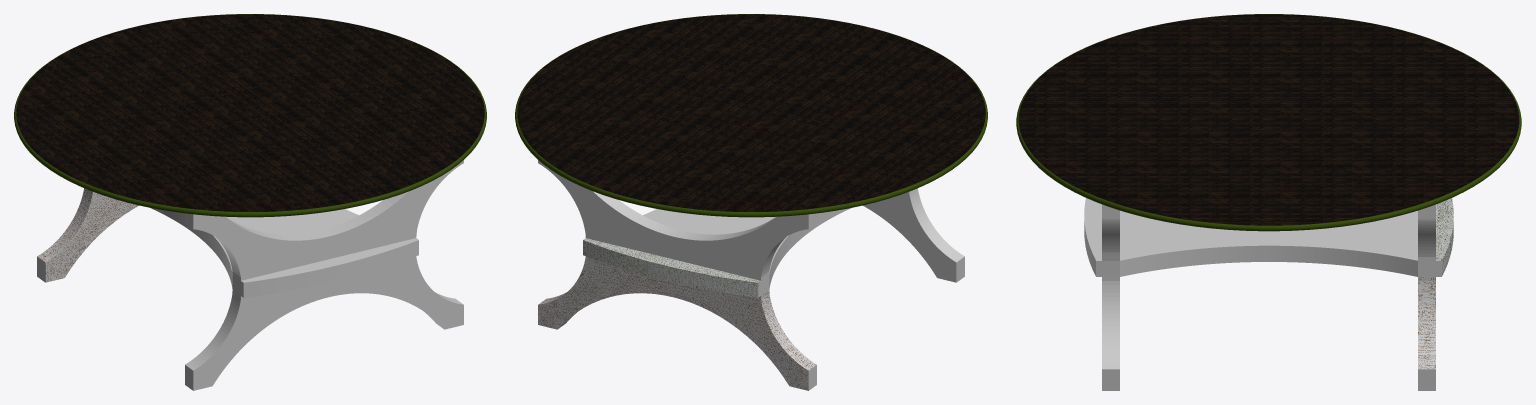
3 views of the same model, side by side, from view 1: azimuth 30°, elevation 25°; view 2: azimuth 150°, elevation 25°; view 3: azimuth 270°, elevation 25° (orthographic). The views are drawn at different scales.
Parts seen in each view (by area): view 1: mesh2_mesh2-geometry, mesh1_mesh1-geometry; view 2: mesh2_mesh2-geometry, mesh1_mesh1-geometry; view 3: mesh2_mesh2-geometry, mesh1_mesh1-geometry.
Part boxes in pixels (left/top/right/bottom): mesh2_mesh2-geometry: left=14, top=14, right=486, bottom=217; mesh1_mesh1-geometry: left=37, top=160, right=463, bottom=390; mesh2_mesh2-geometry: left=515, top=14, right=987, bottom=217; mesh1_mesh1-geometry: left=538, top=160, right=964, bottom=390; mesh2_mesh2-geometry: left=1016, top=14, right=1521, bottom=231; mesh1_mesh1-geometry: left=1084, top=198, right=1453, bottom=390.
Size of the model in its own units: 0.6754 by 0.2959 by 0.6754.
